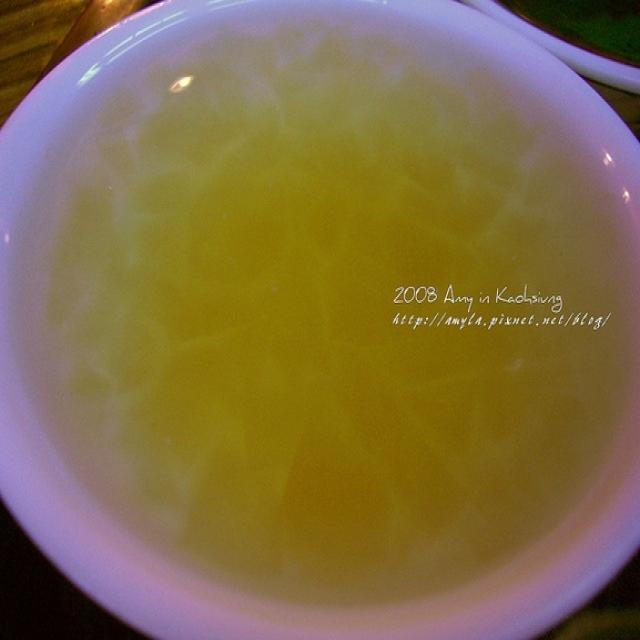蛋糕甜品: (18, 24, 616, 608)
